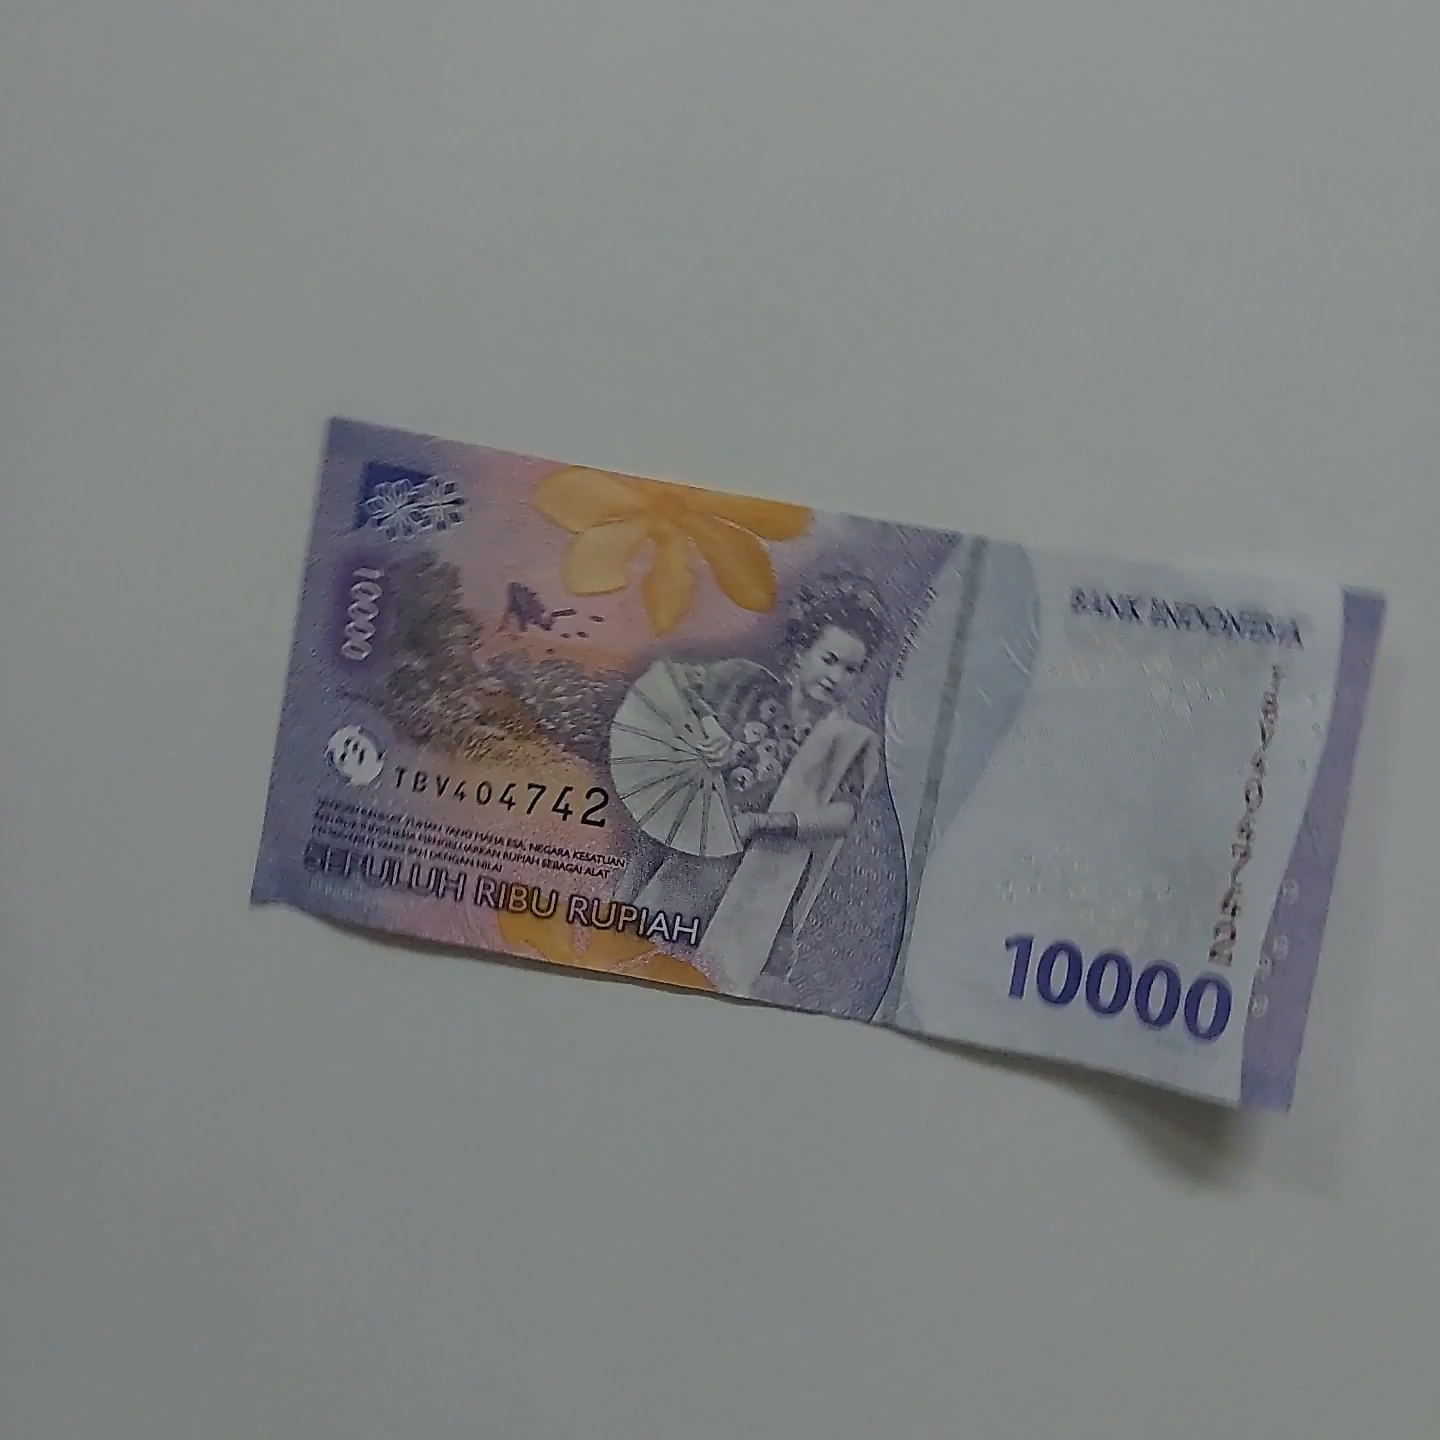10k: (319, 411, 1403, 942)
